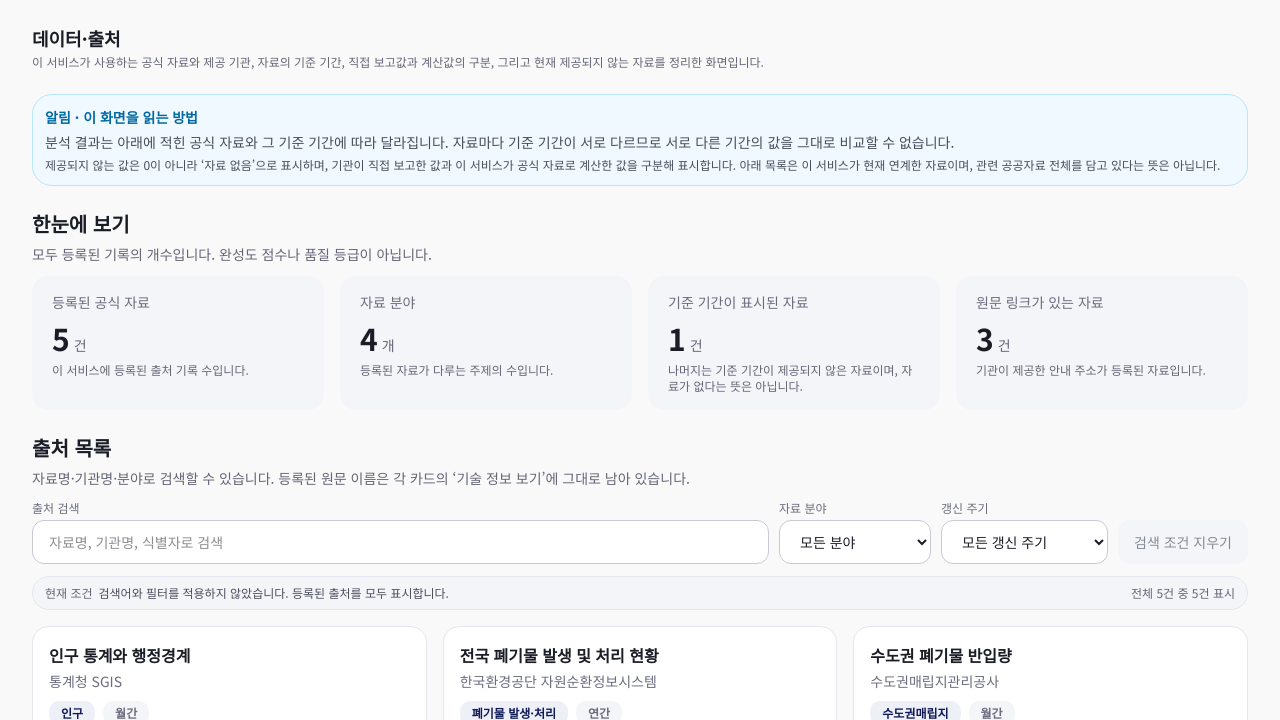
Scenario: source search › shows a no-match state that fabricates no source and is not an alert
The image size is (1280, 720).
Type "존재하지않는자료명" into the search field with test id "transparency-search" at x=400, y=542, box [32,520,769,564]
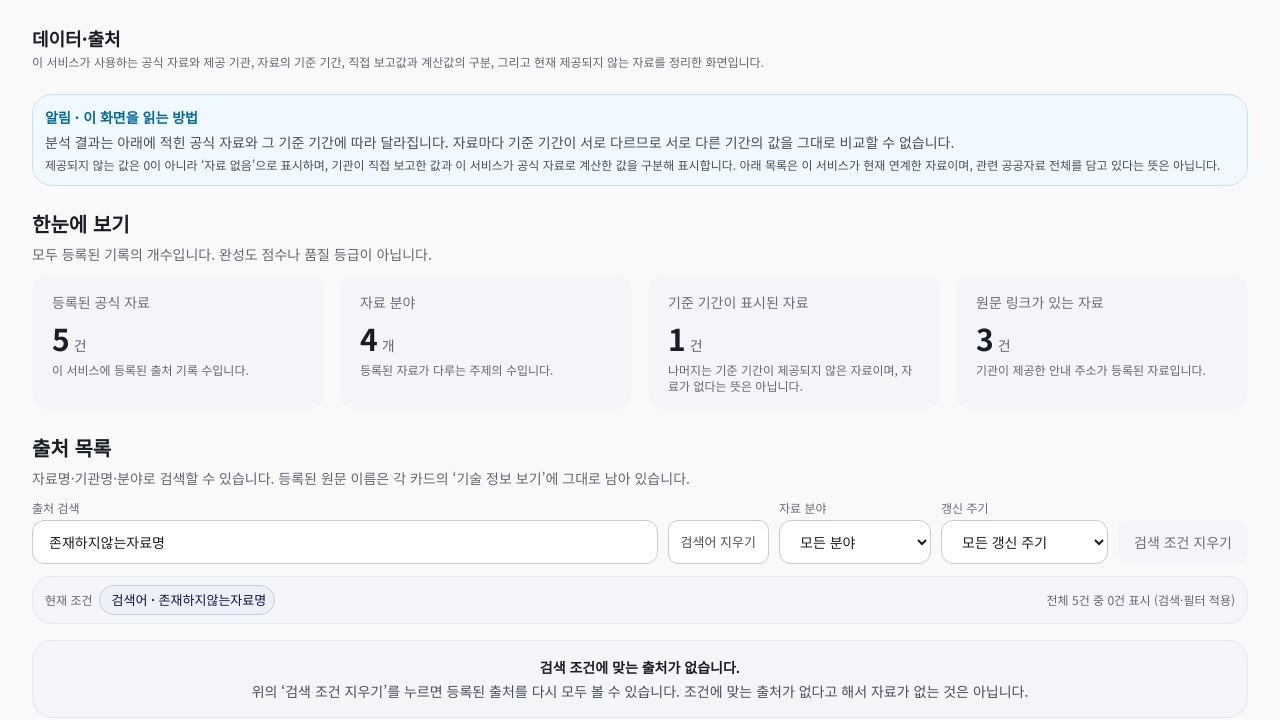
expect no list items with test id "transparency-source-card" are shown: met
expect the element with test id "transparency-empty-results" shows "자료가 없는 것은 아닙니다": met, box [252,680,1028,700]
